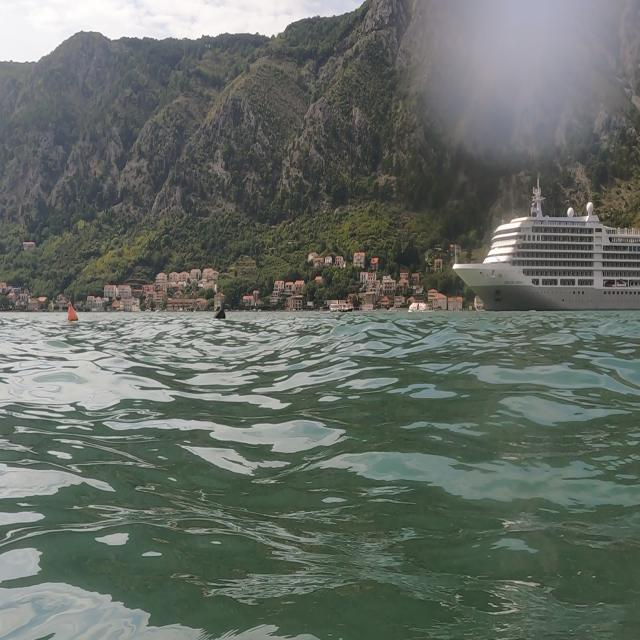boat: (451, 170, 638, 314)
buoy: (58, 299, 85, 330), (205, 298, 232, 323)
